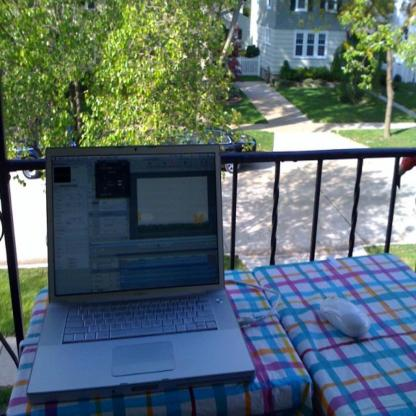board: (26, 146, 255, 398)
